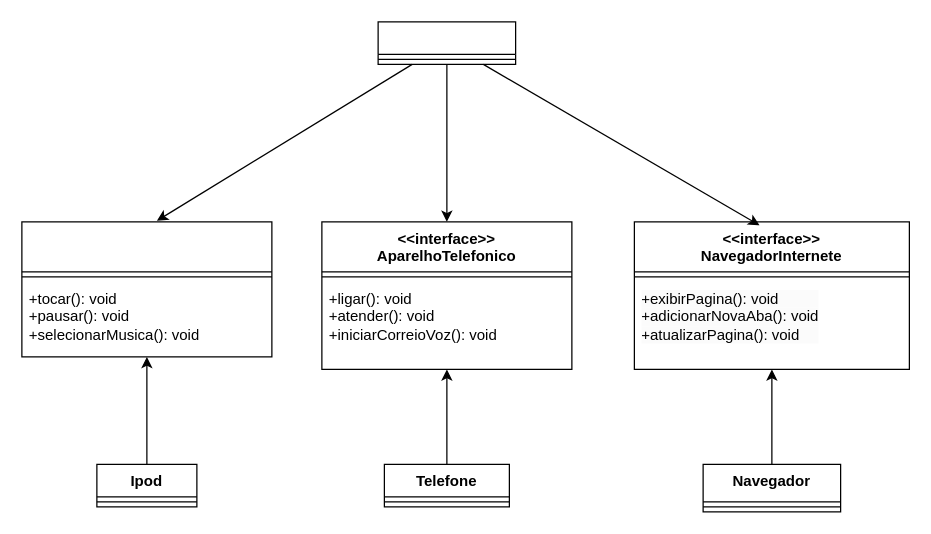
Some shapes in this 931 by 534 pixel diagram are drawn without their labels. Here are the shapes that lost their labels. From the top down, the box of each, then its label:
(377, 21, 516, 64): IPhone
(21, 221, 272, 357): <<interface>> ReprodutorMusical
